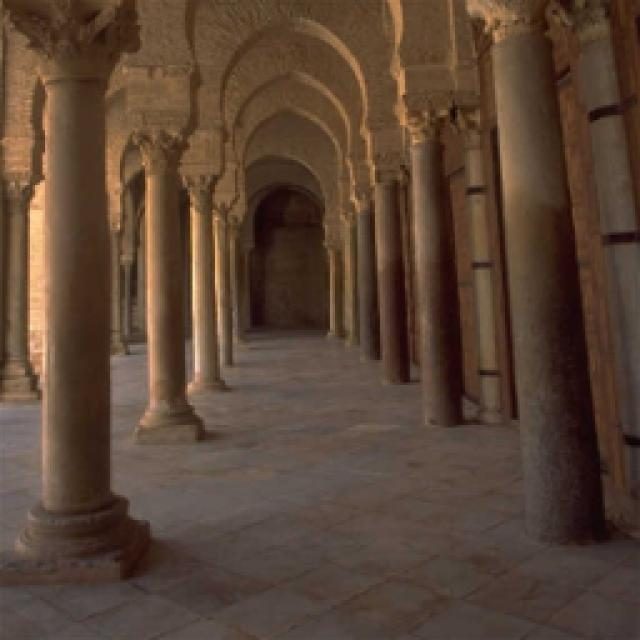column occluded: (462, 2, 605, 540), (125, 65, 202, 440), (390, 90, 460, 422), (358, 125, 408, 380), (182, 128, 220, 390)
floor -X: (0, 325, 638, 638)
wall clock: (120, 0, 516, 365), (370, 0, 638, 495), (245, 185, 325, 325)
